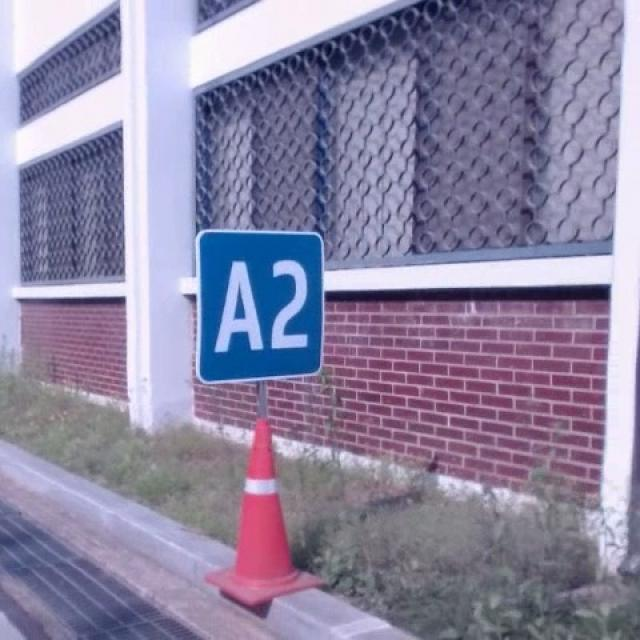a2: (191, 226, 327, 384)
